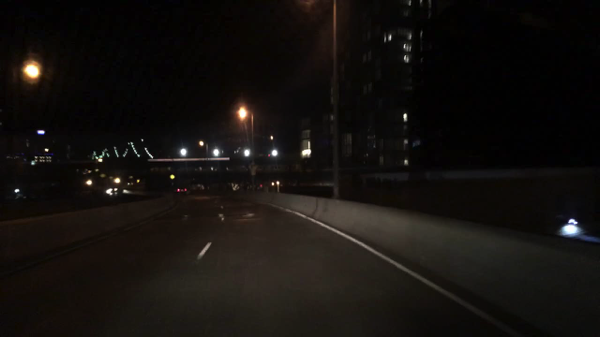car: (0, 169, 37, 215), (82, 175, 103, 198), (172, 184, 191, 197), (111, 176, 125, 191), (124, 180, 135, 189)
traffic sign: (248, 162, 259, 170), (252, 171, 257, 175)
